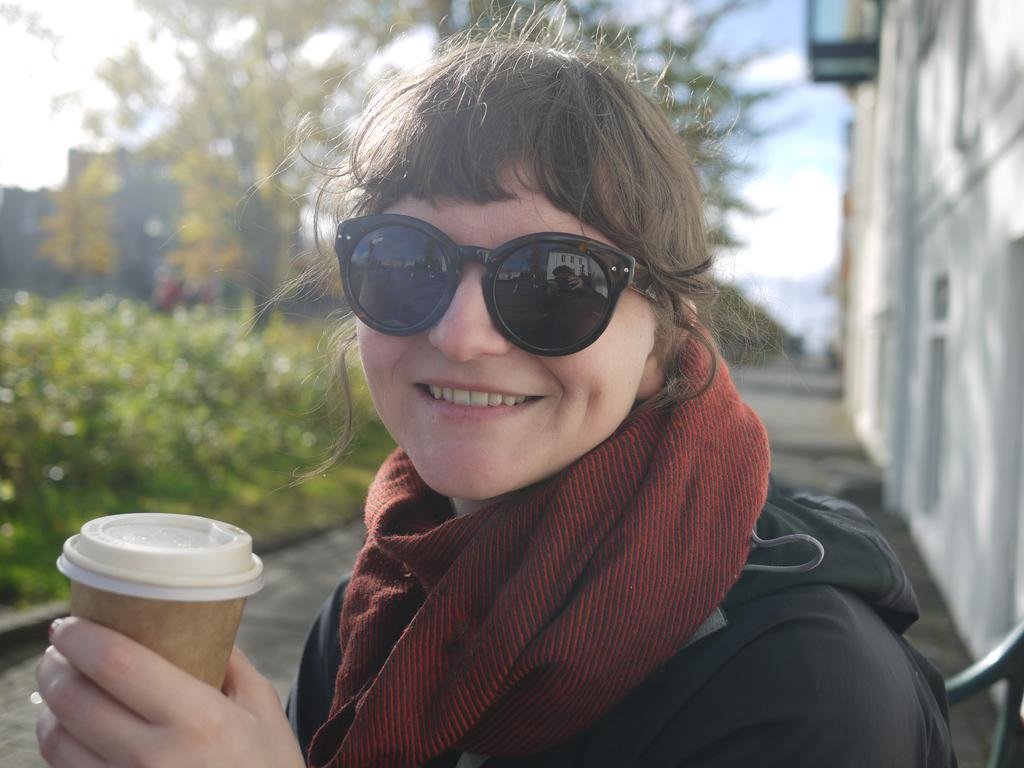Sem Máscara: (348, 144, 657, 498)
